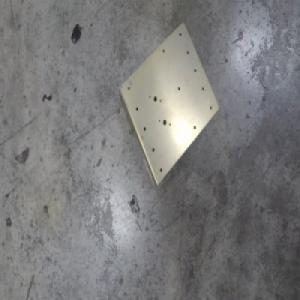MetalSheet: (116, 20, 220, 189)
